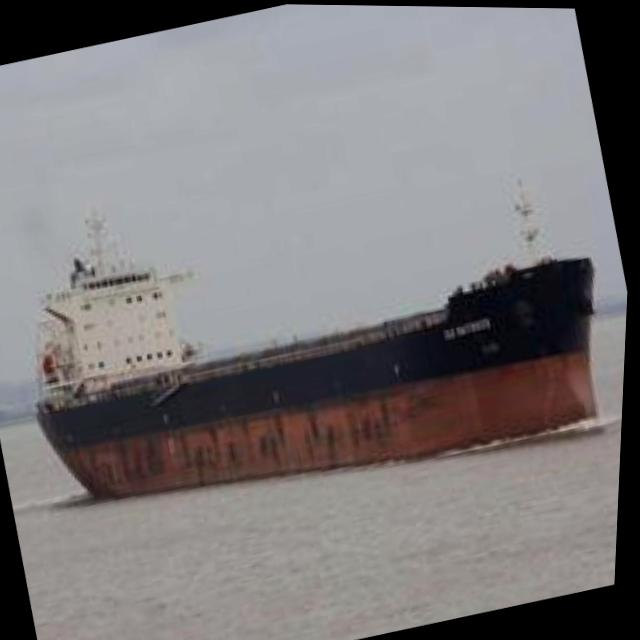ship2: (38, 173, 604, 502)
